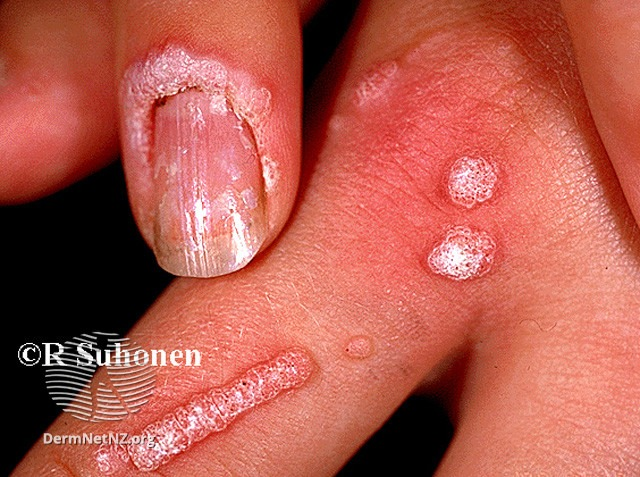Warts: (420, 219, 510, 294), (437, 145, 507, 214), (341, 330, 381, 369)
